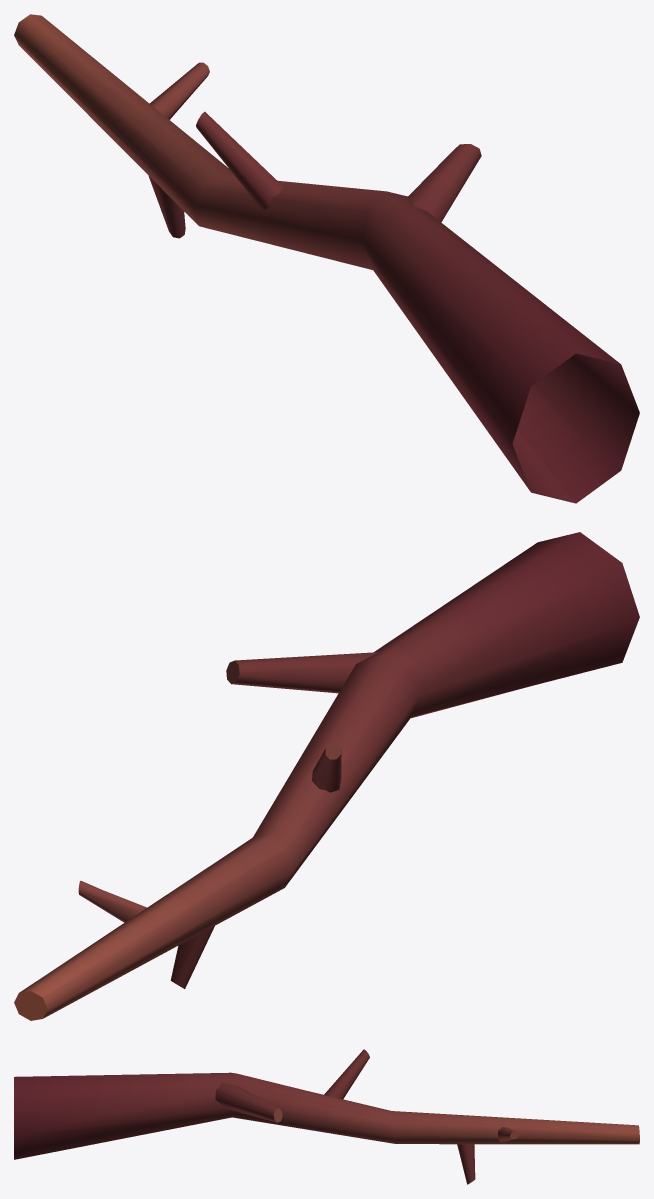
File: Tree 07.FBX
3 views of the same model, one above another, from view 1: azimuth 30°, elevation 25°; view 2: azimuth 150°, elevation 25°; view 3: azimuth 270°, elevation 25° (orthographic). The views are drawn at different scales.
Parts seen in each view (by area): view 1: Tree 07; view 2: Tree 07; view 3: Tree 07.
Boxes of the visible parts, x1,y1,x2,y2 form: Tree 07: (14, 14, 639, 503); Tree 07: (14, 532, 639, 1020); Tree 07: (14, 1049, 639, 1184).
Bounding box in the file's own units: 75.9 × 363 × 74.44.
1 material, 1 textured.
